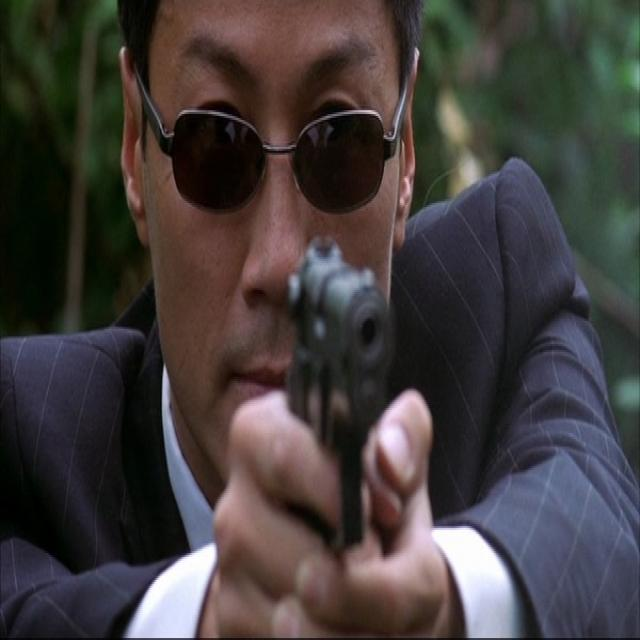weapons: (260, 195, 423, 627)
